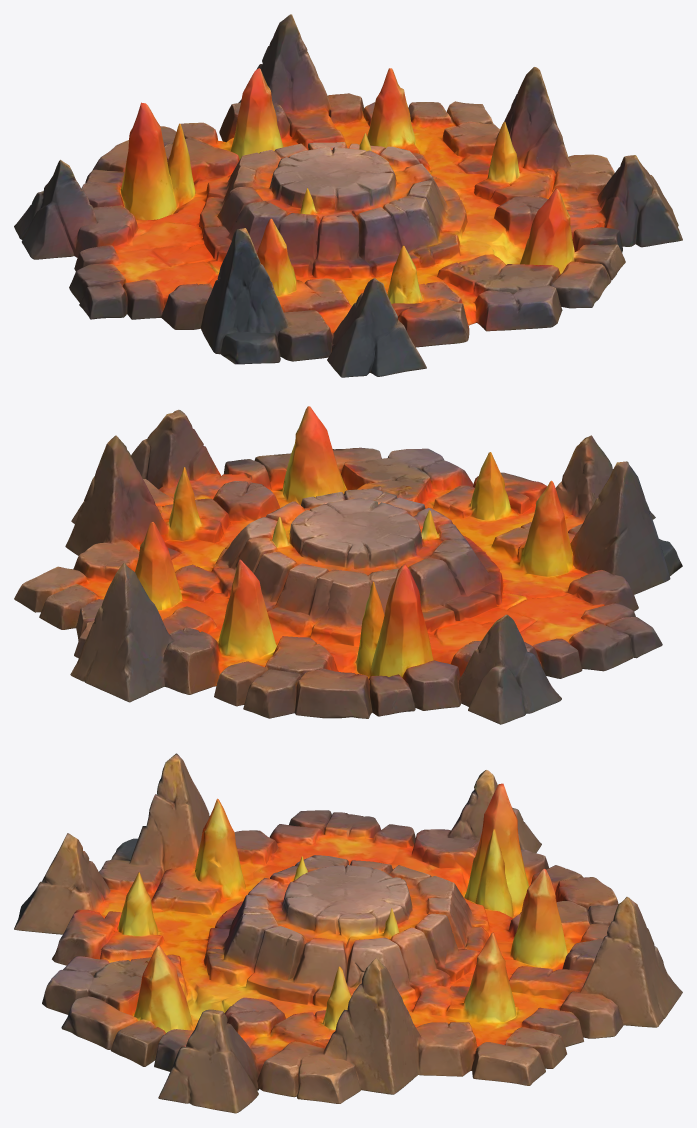
The model's file is lava-crater.glb.
3 views of the same model, one above another, from view 1: azimuth 30°, elevation 25°; view 2: azimuth 150°, elevation 25°; view 3: azimuth 270°, elevation 25° (orthographic). The views are drawn at different scales.
Visible parts, largest first — view 1: tripo_node_3bb77a12-cd89-4830-9d1b-e9da72a71a2e; view 2: tripo_node_3bb77a12-cd89-4830-9d1b-e9da72a71a2e; view 3: tripo_node_3bb77a12-cd89-4830-9d1b-e9da72a71a2e.
Boxes of the visible parts, box(x1,y1,x2,y2) form: tripo_node_3bb77a12-cd89-4830-9d1b-e9da72a71a2e: box(14, 14, 682, 377); tripo_node_3bb77a12-cd89-4830-9d1b-e9da72a71a2e: box(14, 406, 682, 724); tripo_node_3bb77a12-cd89-4830-9d1b-e9da72a71a2e: box(14, 753, 682, 1113).
Bounding box in the file's own units: 1 × 0.1972 × 0.9871.
1 material, 1 textured.
